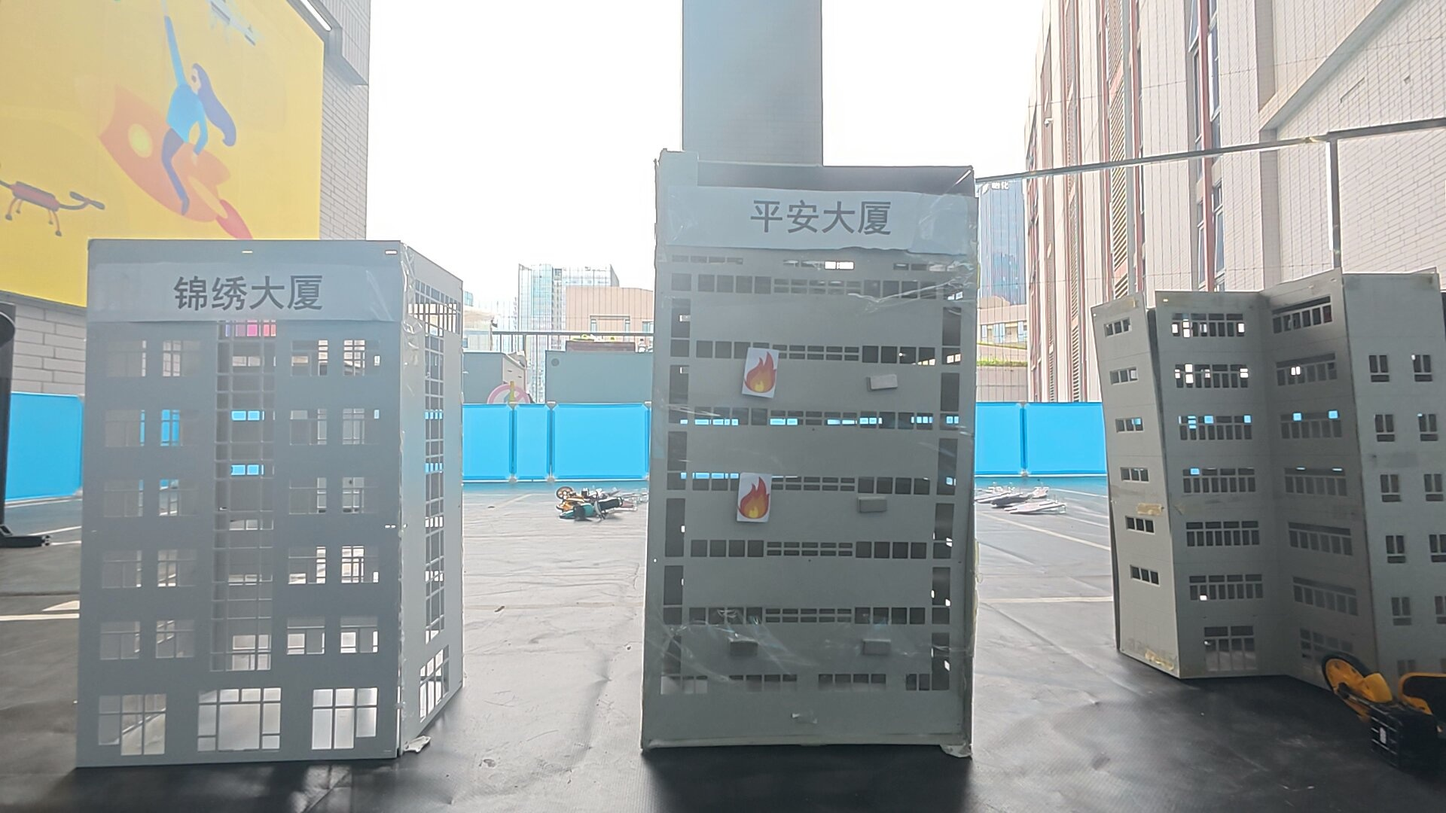fire: (742, 346, 780, 397), (737, 474, 775, 523)
